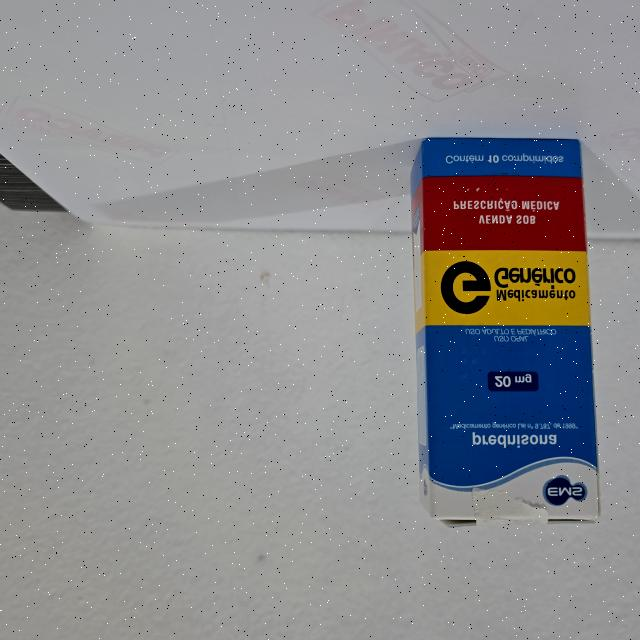prednisona: (413, 134, 603, 532)
